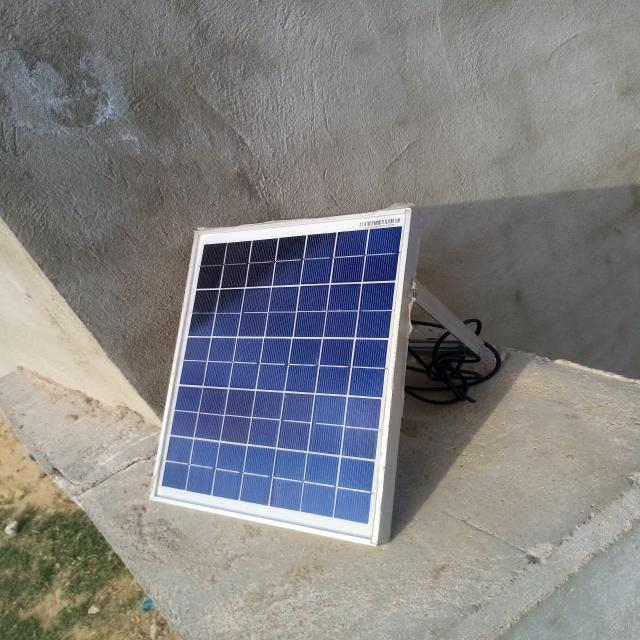no faulty: (152, 208, 412, 543)
